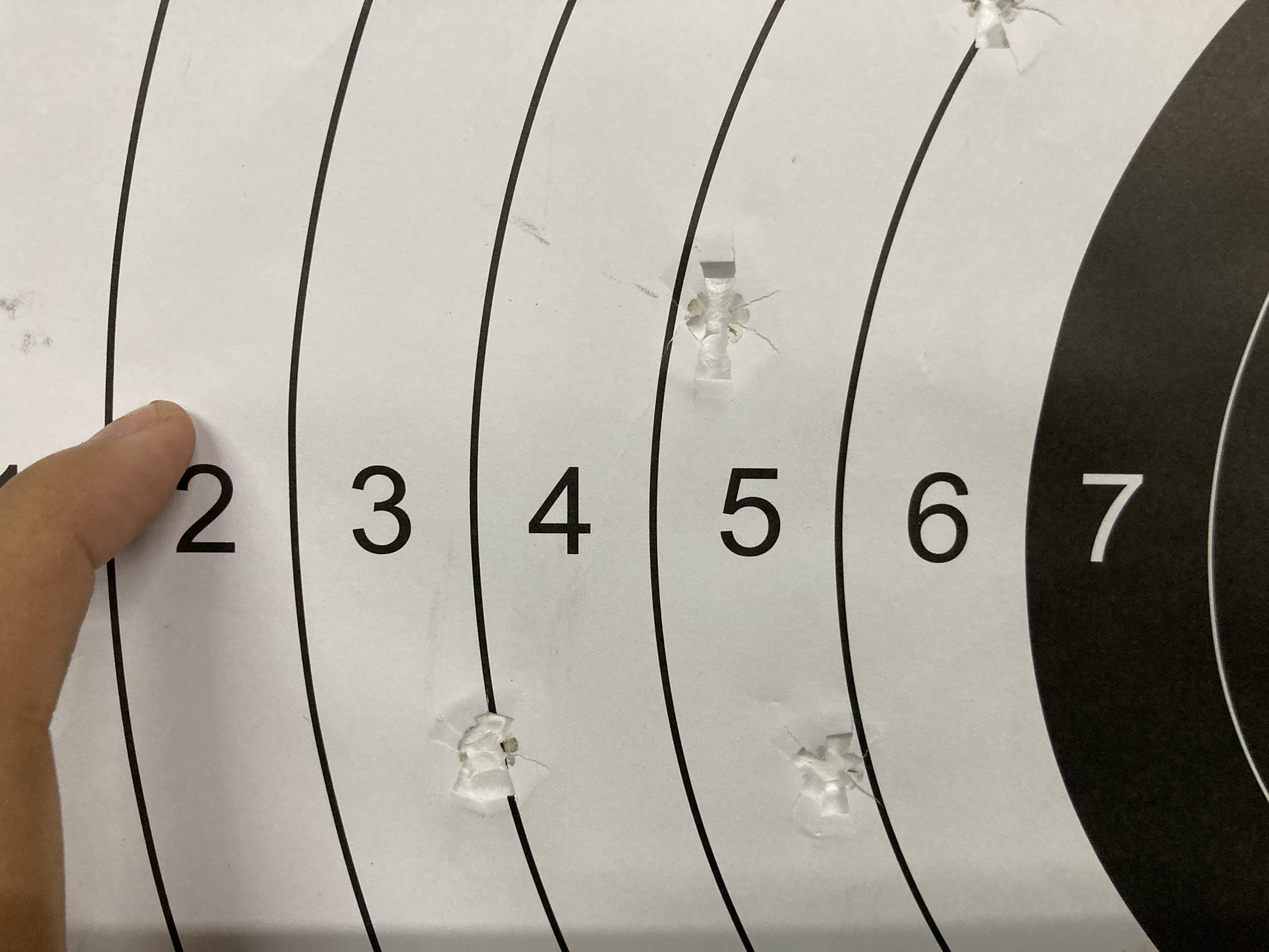hole: (777, 721, 875, 847), (431, 708, 548, 812), (680, 274, 793, 371), (932, 0, 1045, 63)
